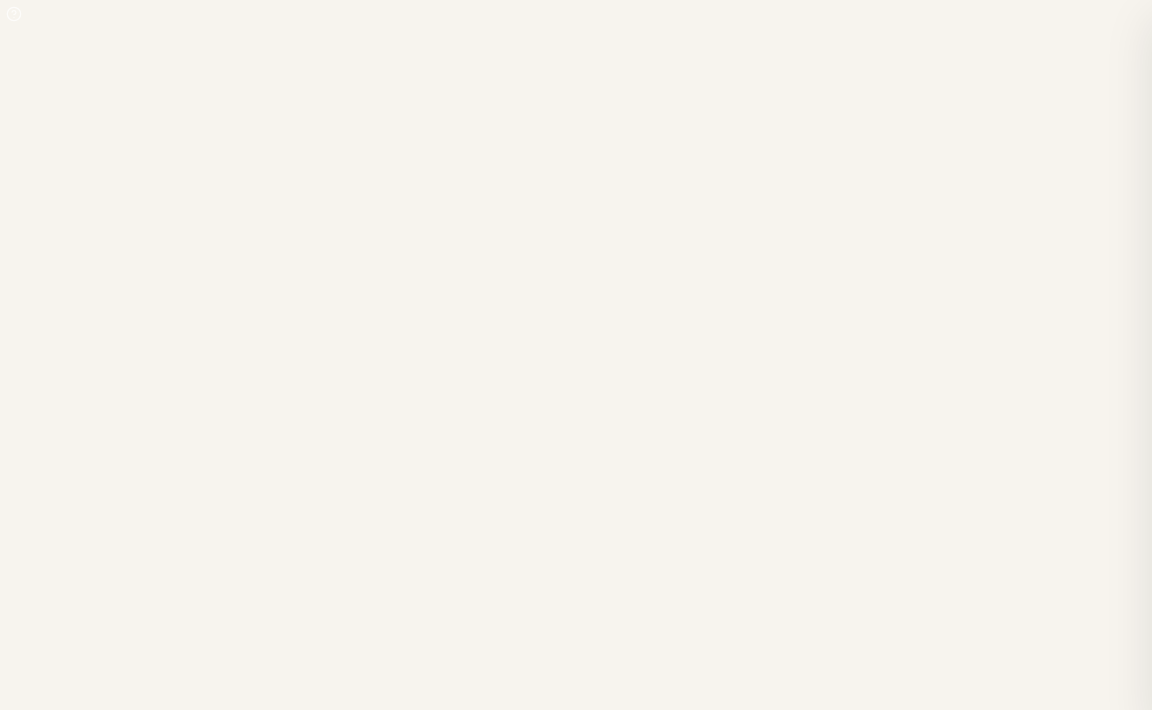
the panel contents › finds a topic by a phrase that appears only in its `long` copy
Press ?
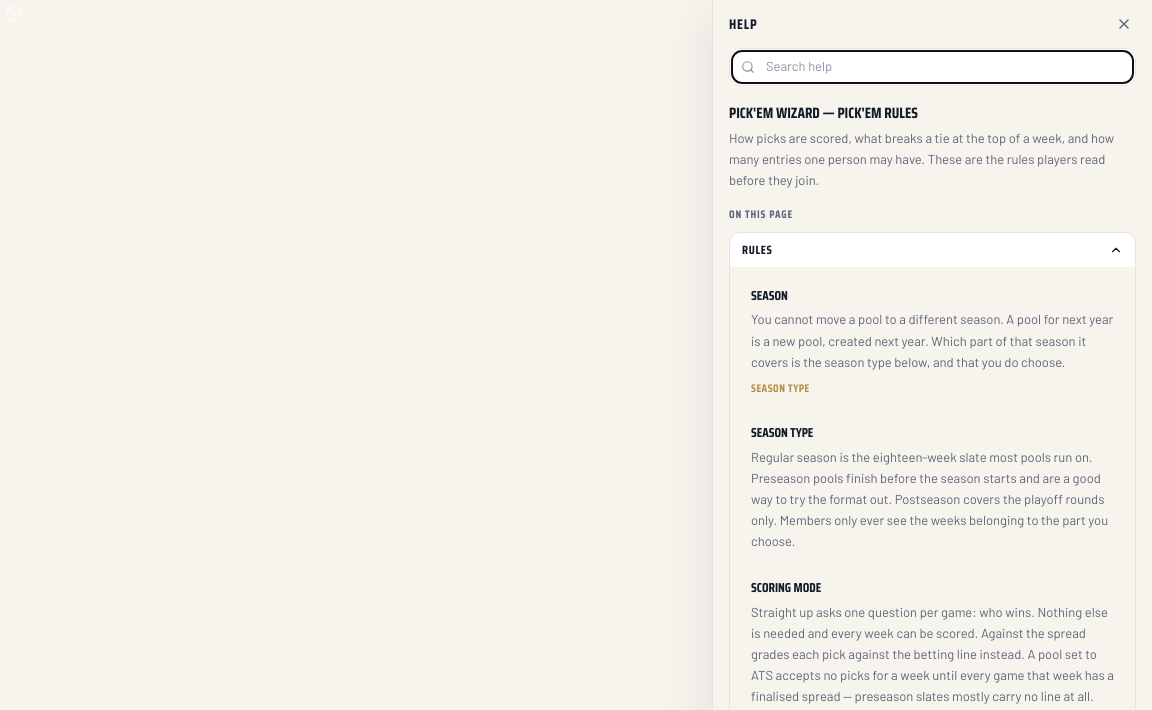
Type "can settle a level" into the search field with placeholder "Search help" at (932, 67), box [729, 48, 1136, 86]
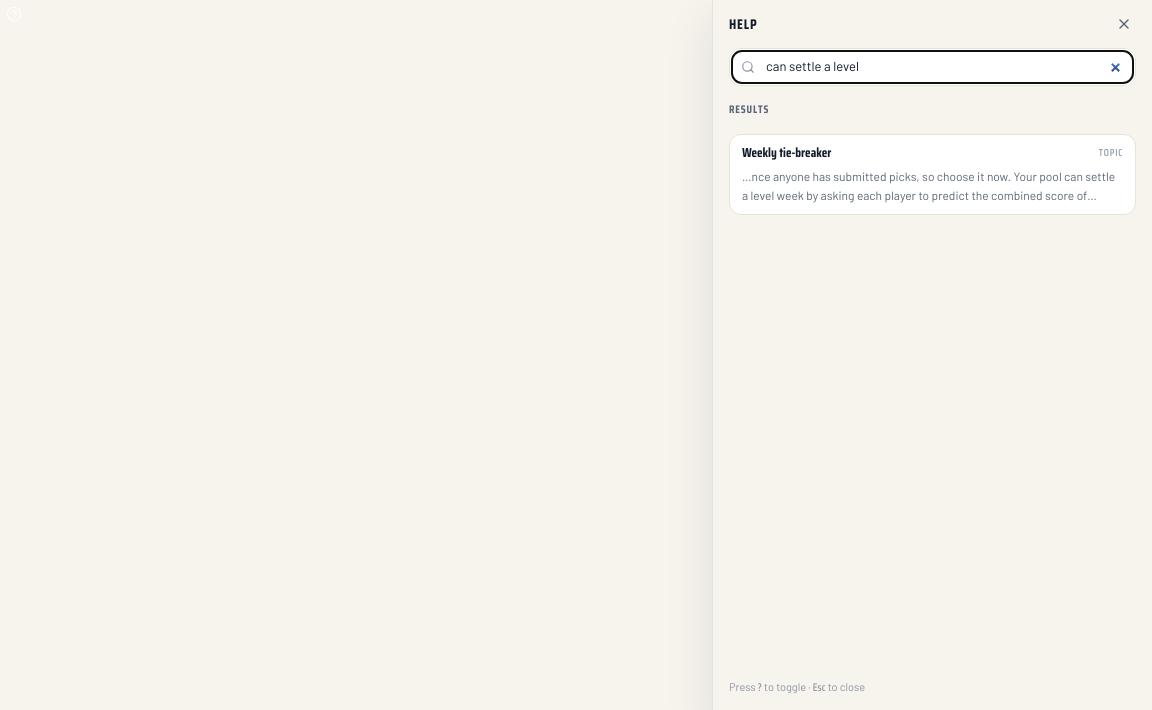
Expected: the text "Weekly tie-breaker" is shown, [742, 143, 831, 162]
